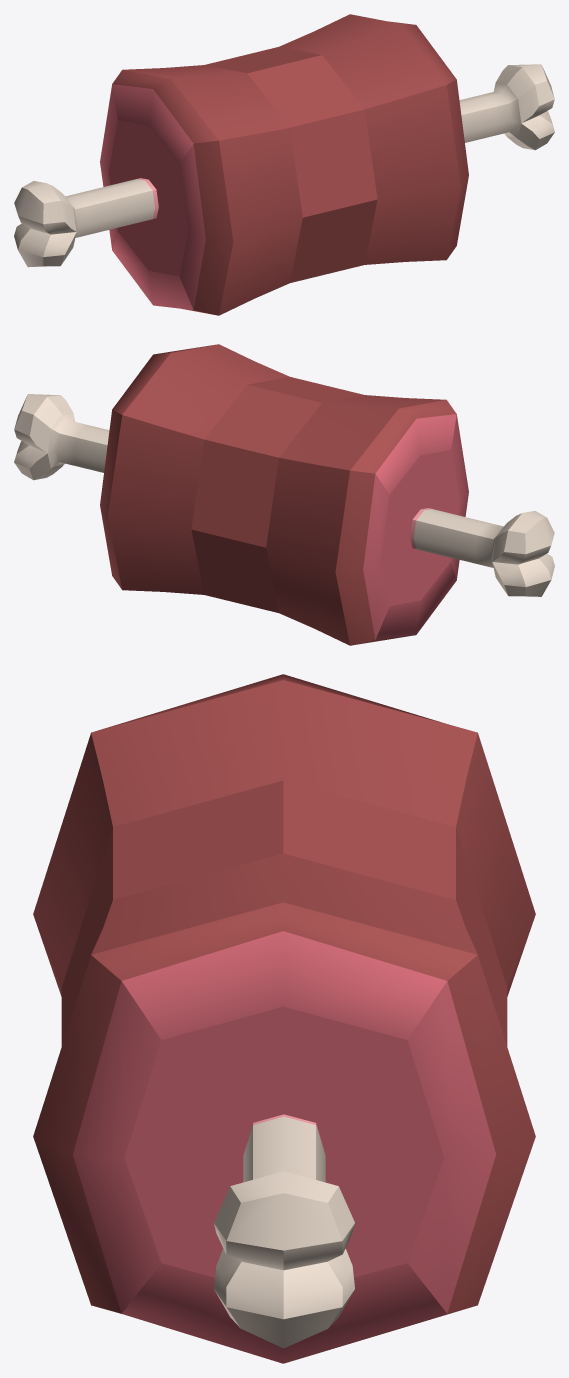
The model's file is meat.glb.
The picture shows the model from 3 angles, top to bottom: view 1: azimuth 30°, elevation 25°; view 2: azimuth 150°, elevation 25°; view 3: azimuth 270°, elevation 25°; orthographic projection. The views are drawn at different scales.
Visible parts, largest first — view 1: pCube2; view 2: pCube2; view 3: pCube2.
Boxes of the visible parts, x1,y1,x2,y2 form: pCube2: [14, 14, 554, 315]; pCube2: [14, 344, 554, 645]; pCube2: [33, 674, 535, 1363].
Size of the model in its own units: 0.1626 by 0.0664 by 0.0664.
